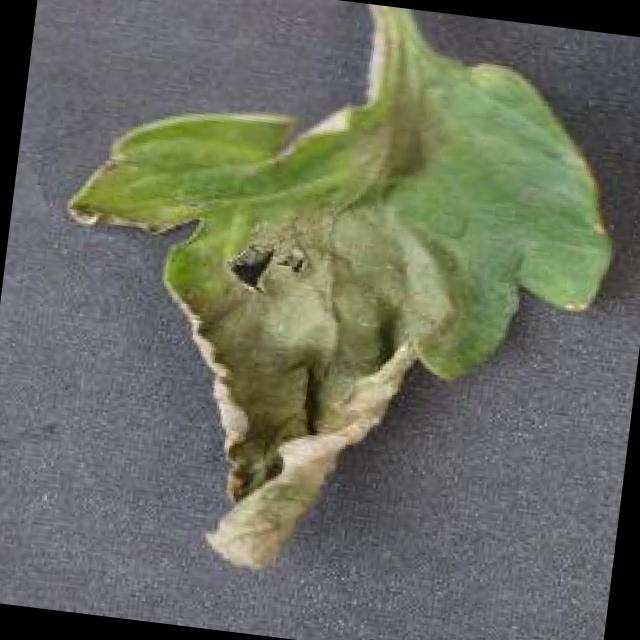Tomato_Late_Blight: (24, 140, 478, 596)
